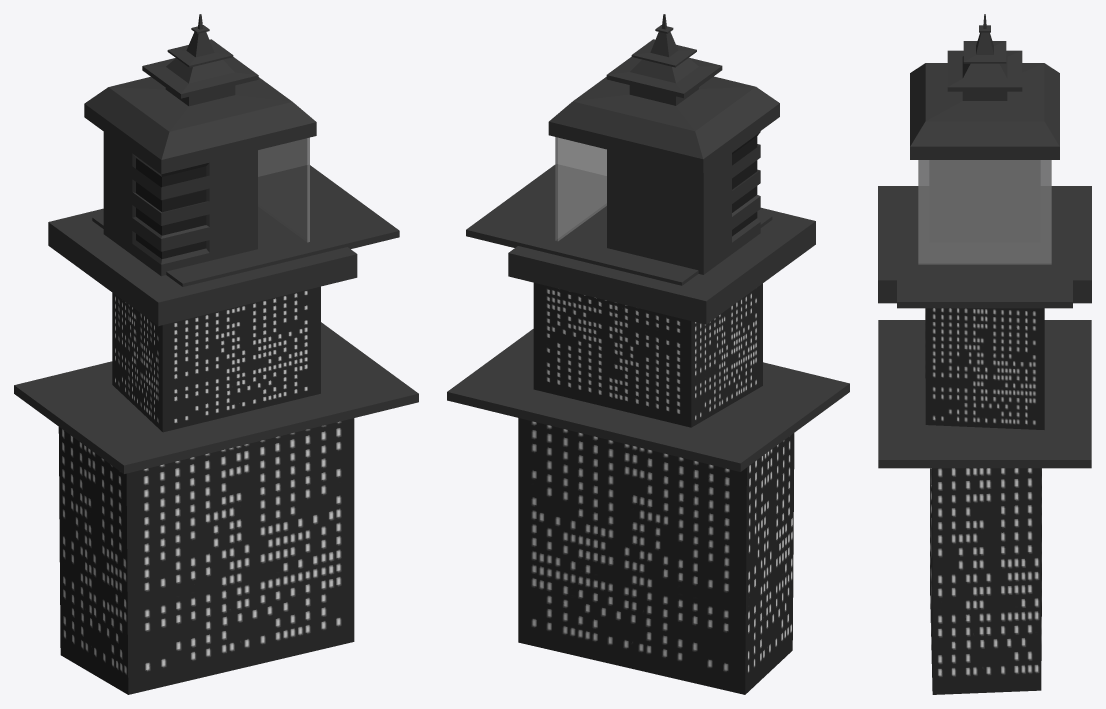
The model's file is Stage2.fbx.
3 renders of one model, left to right at view 1: azimuth 30°, elevation 25°; view 2: azimuth 150°, elevation 25°; view 3: azimuth 270°, elevation 25°, orthographic. The views are drawn at different scales.
Visible parts, largest first — view 1: pCube7, pCube9, pCube8, pCube5, pCube4, pCube2, pCube3, pCube6; view 2: pCube7, pCube9, pCube8, pCube5, pCube4, pCube2, pCube3, pCube6; view 3: pCube7, pCube8, pCube5, pCube9, pCube6, pCube3, pCube2.
Boxes of the visible parts, x1,y1,x2,y2 form: pCube7: [58, 418, 354, 694]; pCube9: [112, 286, 320, 432]; pCube8: [14, 322, 418, 473]; pCube5: [84, 14, 316, 173]; pCube4: [103, 132, 257, 276]; pCube2: [48, 208, 357, 325]; pCube3: [92, 165, 399, 286]; pCube6: [258, 137, 309, 242]; pCube7: [518, 418, 794, 694]; pCube9: [533, 282, 762, 427]; pCube8: [447, 329, 849, 471]; pCube5: [548, 14, 779, 172]; pCube4: [607, 131, 760, 274]; pCube2: [508, 207, 815, 324]; pCube3: [466, 164, 772, 285]; pCube6: [555, 137, 606, 241]; pCube7: [930, 468, 1041, 694]; pCube8: [878, 320, 1091, 468]; pCube5: [910, 14, 1059, 159]; pCube9: [925, 308, 1044, 429]; pCube6: [918, 160, 1051, 264]; pCube3: [897, 199, 1072, 308]; pCube2: [878, 186, 1091, 303].
Bounding box in the file's own units: 953 × 1971 × 616.
5 materials, 2 textured.
